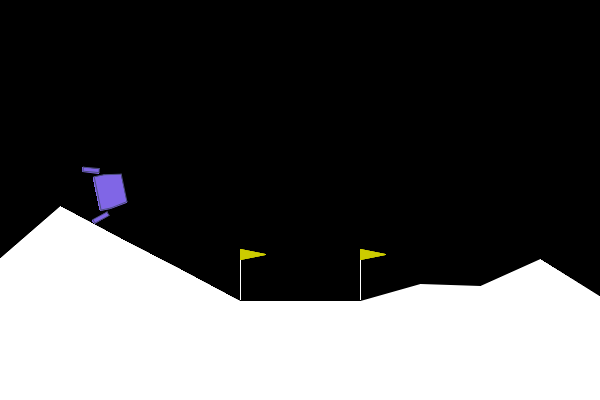lander: (80, 159, 132, 225)
